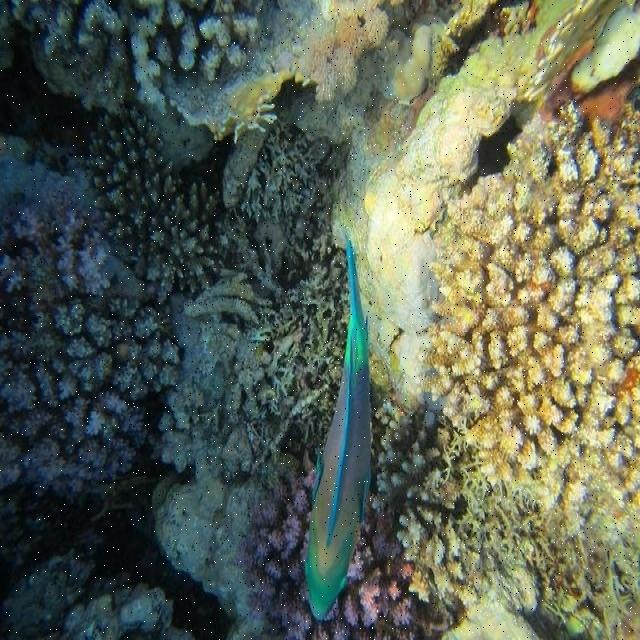fish: (305, 233, 373, 621)
reefs: (417, 101, 639, 559), (230, 402, 484, 639), (0, 179, 178, 501), (7, 2, 264, 116), (84, 105, 228, 304)
